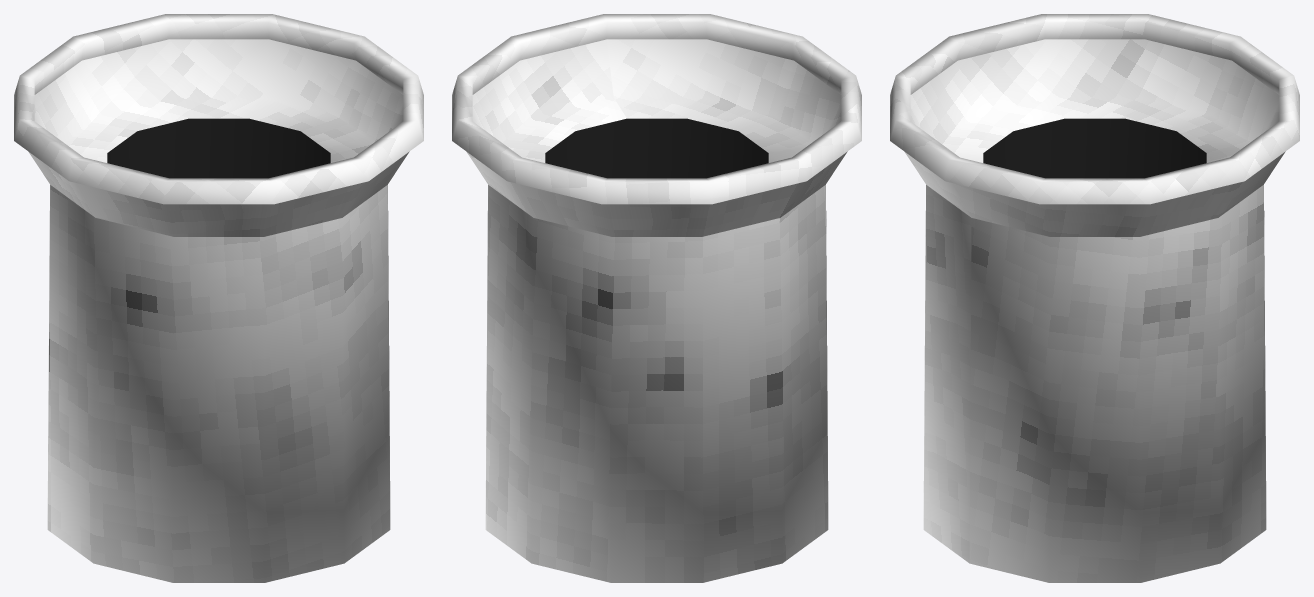
3 renders of one model, left to right at view 1: azimuth 30°, elevation 25°; view 2: azimuth 150°, elevation 25°; view 3: azimuth 270°, elevation 25°, orthographic.
Visible parts, largest first — view 1: TrashCanLined_Lod2_Model; view 2: TrashCanLined_Lod2_Model; view 3: TrashCanLined_Lod2_Model.
Part boxes in pixels (<box>): TrashCanLined_Lod2_Model: <box>14,14,423,582</box>; TrashCanLined_Lod2_Model: <box>452,14,861,582</box>; TrashCanLined_Lod2_Model: <box>890,14,1299,582</box>.
Size of the model in its own units: 0.8336 by 0.926 by 0.8336.
1 material, 1 textured.
